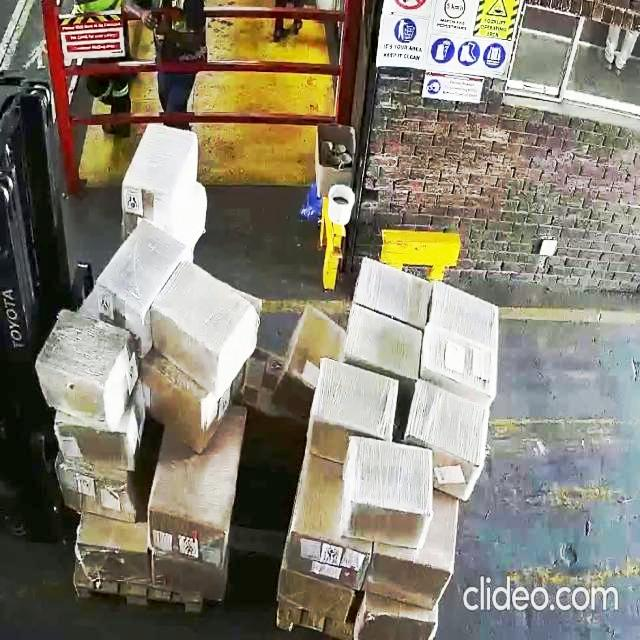Box: (42, 312, 136, 427), (157, 275, 256, 380), (432, 272, 516, 394), (411, 384, 498, 492), (127, 112, 206, 224), (343, 442, 429, 536), (159, 448, 228, 560), (92, 223, 168, 320), (307, 361, 401, 432), (344, 305, 422, 380), (54, 456, 132, 520), (352, 254, 424, 323), (372, 556, 448, 614), (288, 524, 359, 586), (80, 519, 147, 584), (278, 574, 356, 623), (360, 601, 438, 640), (58, 422, 134, 462)
